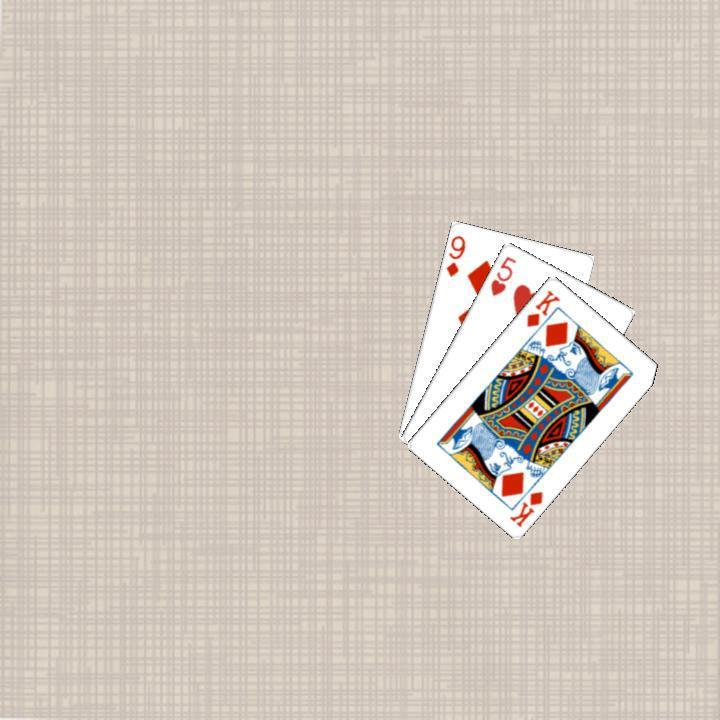5: (486, 251, 518, 298)
9: (441, 230, 467, 278)
K: (522, 285, 562, 329), (505, 486, 545, 529)
